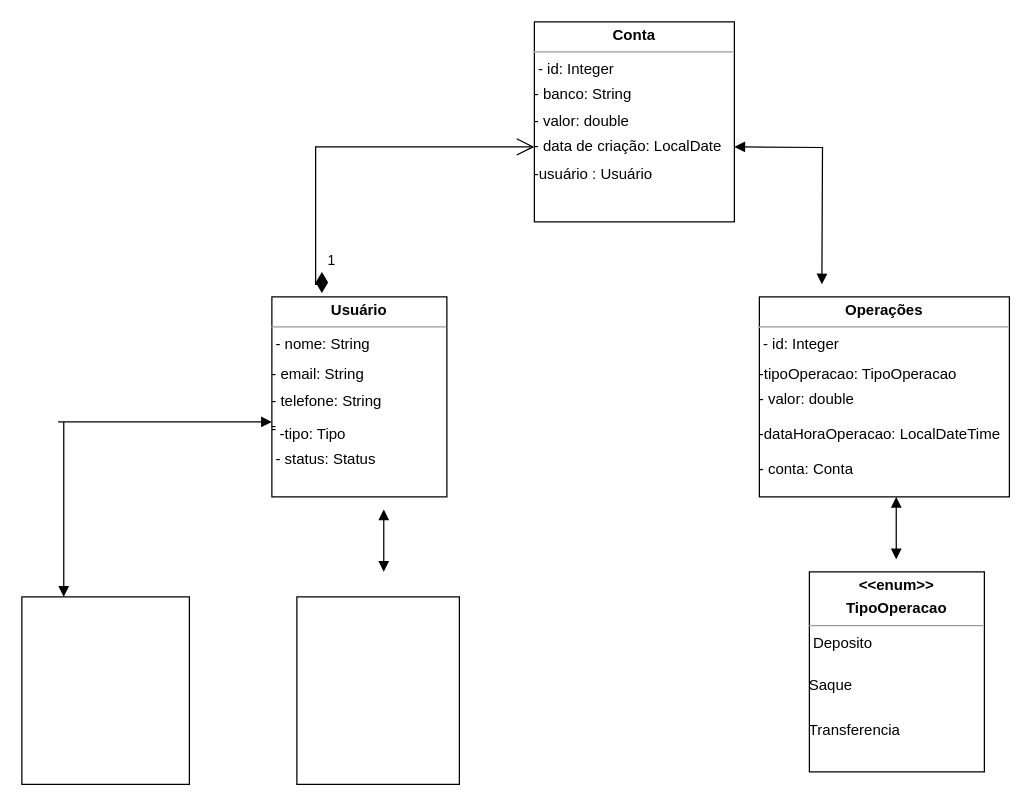
Image size: 1031x806. Some labels were removed from this diagram. Here are the shapes that lost their labels. From the top down, the centre of each, then its label:
At (105,690): "<<enum>> Tipo PF PJ".
At (377,690): "<<enum>> Status Ativo Desativado".
